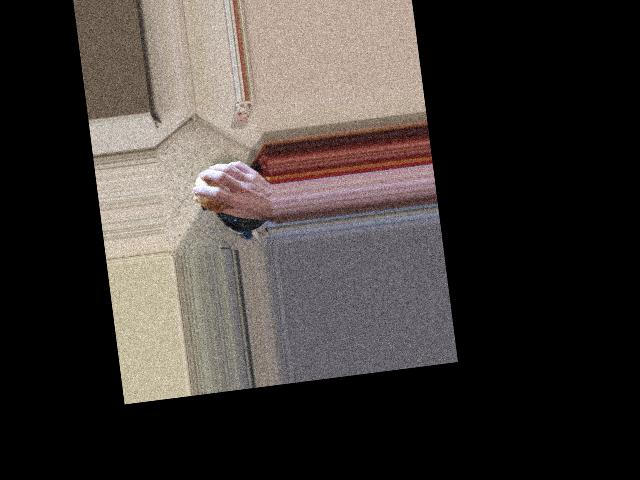onion: (192, 168, 235, 213)
